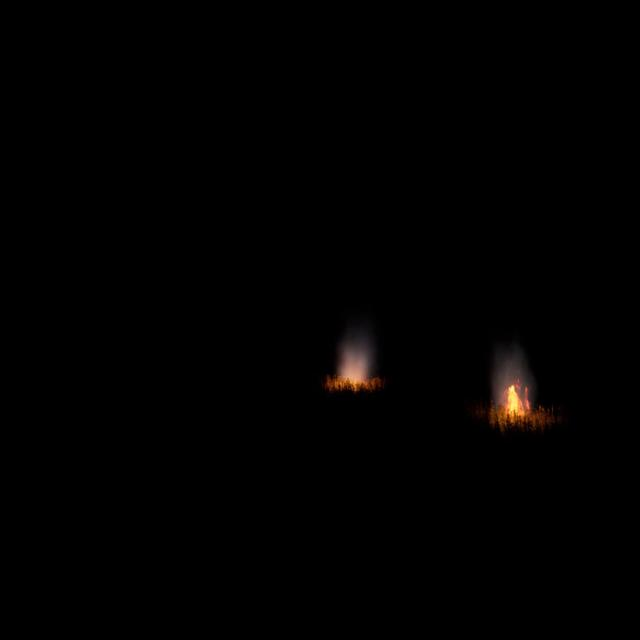fire: (503, 380, 531, 419)
smoke: (491, 350, 536, 411), (337, 334, 372, 383)
